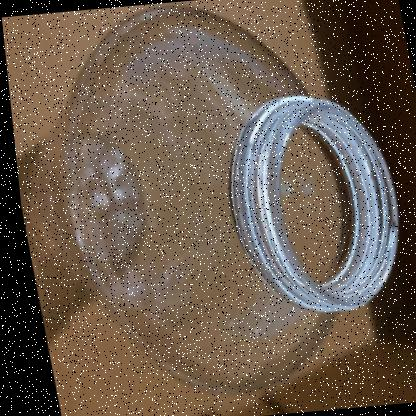open bottle: (33, 1, 416, 415)
